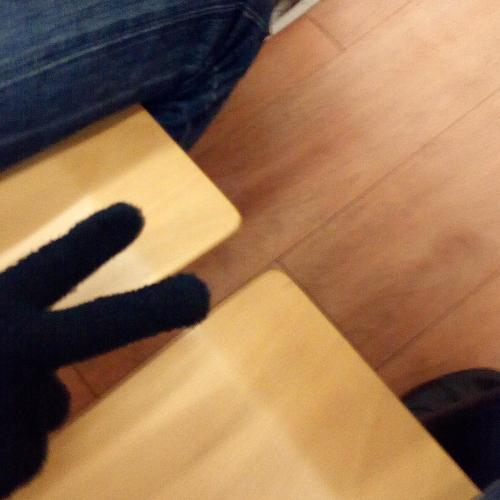scissors: (1, 196, 218, 498)
